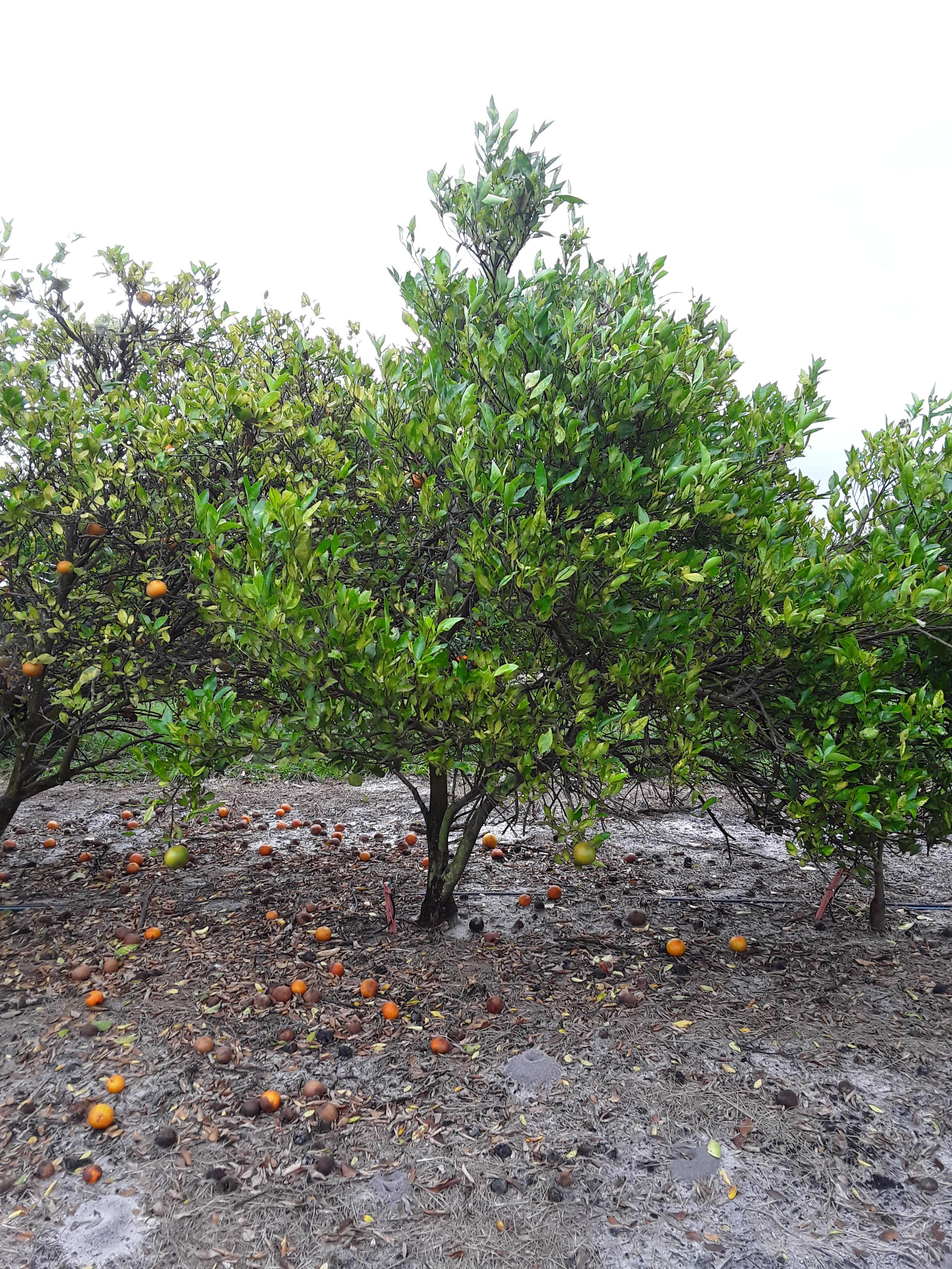fruit_on_ground: (163, 843, 192, 871), (570, 839, 597, 866), (926, 557, 952, 582), (144, 577, 170, 600), (201, 540, 227, 563), (404, 467, 428, 491), (154, 438, 177, 461), (158, 531, 183, 552), (83, 518, 108, 539), (20, 658, 45, 679), (54, 558, 76, 577), (135, 287, 154, 306), (101, 578, 121, 596)
fruit_on_tree: (87, 1101, 115, 1130), (266, 979, 294, 1004), (775, 1086, 801, 1110), (154, 1124, 179, 1148), (259, 1087, 282, 1111), (316, 1101, 341, 1123), (301, 1078, 326, 1099), (314, 1155, 338, 1176), (191, 1034, 215, 1055), (873, 1171, 898, 1191), (80, 1164, 102, 1186), (665, 936, 687, 958), (483, 993, 506, 1014), (70, 961, 93, 981), (105, 1073, 126, 1094), (359, 977, 380, 998), (617, 987, 639, 1007), (239, 1097, 261, 1117), (213, 1044, 235, 1064), (429, 1034, 451, 1054), (626, 907, 648, 926), (35, 1160, 55, 1180), (84, 988, 105, 1007), (728, 934, 749, 953), (381, 1000, 399, 1020), (289, 977, 308, 995), (101, 955, 119, 974), (345, 1016, 363, 1034), (304, 987, 322, 1005), (79, 1021, 98, 1038), (252, 992, 271, 1009), (480, 831, 499, 848), (123, 930, 144, 945), (597, 958, 616, 974), (494, 1143, 513, 1159), (276, 1026, 295, 1042), (314, 925, 333, 941), (546, 883, 563, 900), (467, 916, 485, 932), (113, 924, 131, 940), (481, 929, 500, 944), (143, 925, 162, 940), (489, 847, 507, 862), (329, 960, 344, 976), (404, 831, 419, 846), (98, 867, 114, 881), (592, 963, 608, 977), (264, 907, 280, 921), (78, 849, 93, 863), (518, 892, 532, 907), (295, 912, 311, 925), (329, 830, 345, 843), (302, 899, 318, 912), (128, 852, 144, 865), (274, 803, 290, 816), (125, 862, 140, 875), (126, 818, 141, 831), (258, 843, 273, 856), (3, 837, 17, 850), (0, 869, 13, 883), (359, 848, 372, 862), (309, 823, 323, 836), (622, 851, 637, 863), (117, 884, 131, 896), (119, 808, 133, 820), (217, 806, 231, 818), (43, 836, 57, 848), (420, 854, 431, 868), (327, 836, 341, 847), (396, 839, 410, 850), (234, 820, 249, 830), (239, 813, 251, 825), (250, 809, 263, 820), (46, 819, 59, 830), (290, 818, 303, 829), (219, 821, 232, 832), (14, 825, 26, 836), (275, 820, 287, 831), (332, 820, 345, 830), (154, 805, 166, 815), (372, 830, 384, 840), (256, 822, 269, 831), (359, 833, 370, 843), (312, 818, 322, 825), (302, 820, 311, 827)
